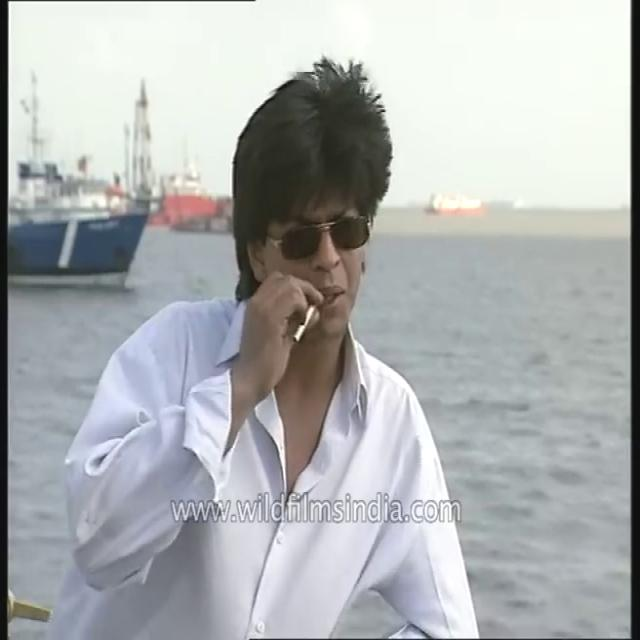Smooking: (282, 295, 321, 357)
